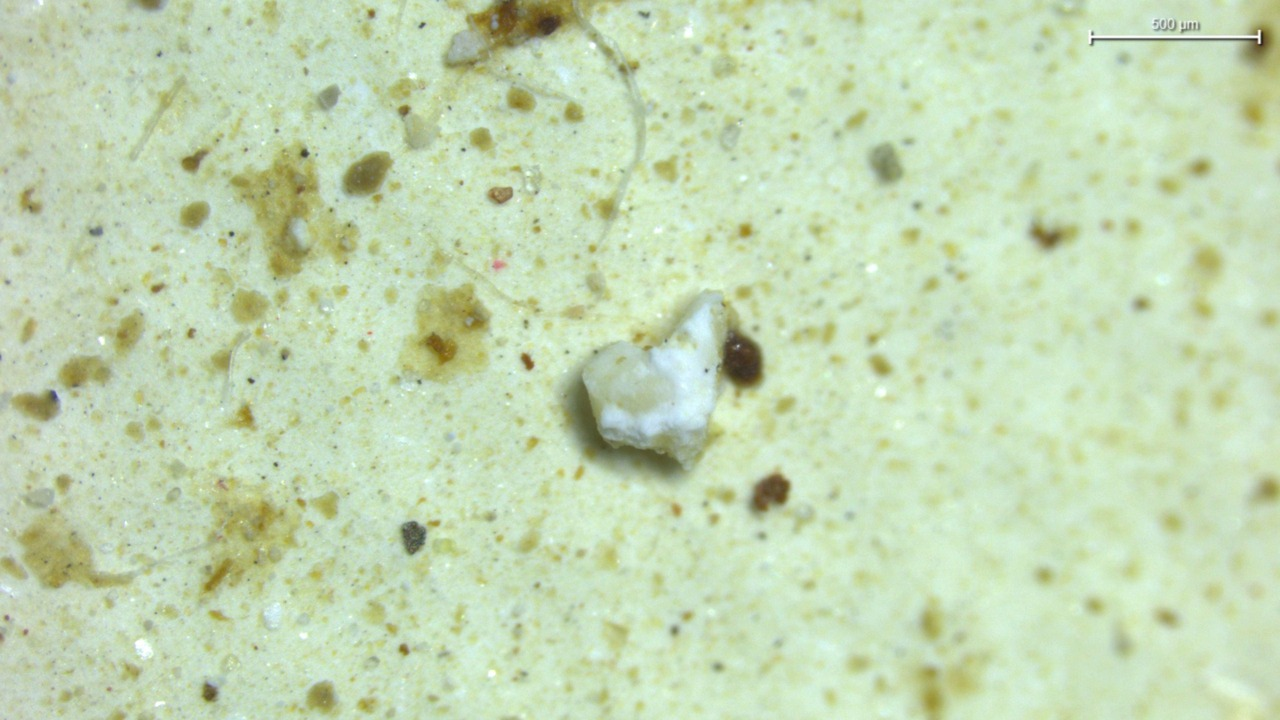microplastic_fragment: (582, 291, 729, 466), (445, 30, 488, 66), (403, 113, 439, 148)
